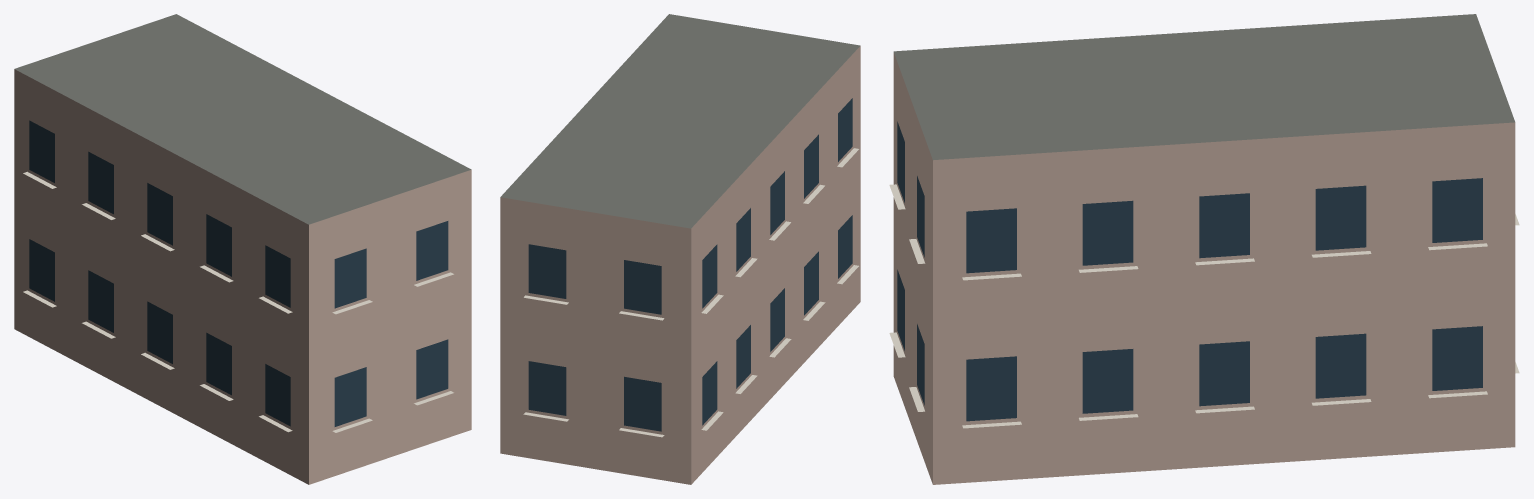
3 renders of one model, left to right at view 1: azimuth 30°, elevation 25°; view 2: azimuth 150°, elevation 25°; view 3: azimuth 270°, elevation 25°, orthographic. The views are drawn at different scales.
Parts seen in each view (by area): view 1: Footprint 0, Inferred window bays, Window sills; view 2: Footprint 0, Inferred window bays, Window sills; view 3: Footprint 0, Inferred window bays, Window sills.
Part boxes in pixels (x1,y1,x2,y2): Footprint 0: (14,14,471,484); Inferred window bays: (29,120,448,426); Window sills: (23,171,453,432); Footprint 0: (500,14,860,484); Inferred window bays: (528,98,852,431); Window sills: (523,148,858,437); Footprint 0: (893,14,1515,484); Inferred window bays: (897,121,1482,421); Window sills: (889,184,1519,428).
Bounding box in the file's own units: 8.63 × 8.68 × 15.26.
